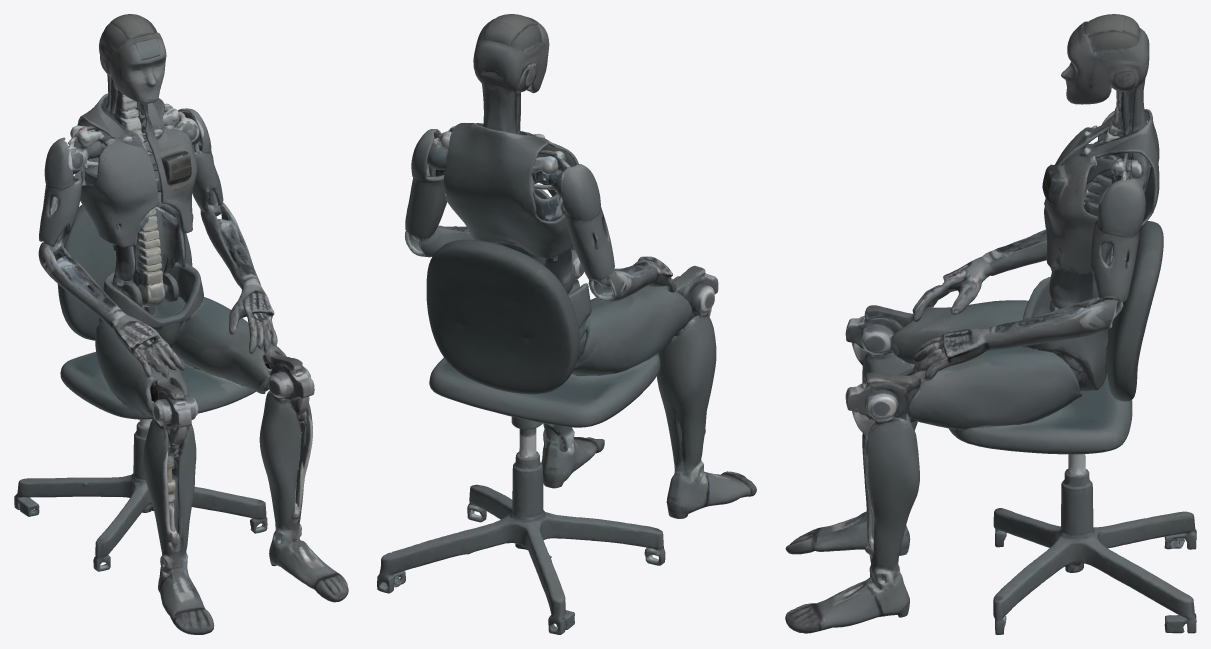
Rendered from kinet_model.glb.
The picture shows the model from 3 angles, left to right: view 1: azimuth 30°, elevation 25°; view 2: azimuth 150°, elevation 25°; view 3: azimuth 270°, elevation 25°; orthographic projection. The views are drawn at different scales.
Parts seen in each view (by area): view 1: tripo_node_c1947d4b-7665-4e80-87d9-1b6402f54ebd; view 2: tripo_node_c1947d4b-7665-4e80-87d9-1b6402f54ebd; view 3: tripo_node_c1947d4b-7665-4e80-87d9-1b6402f54ebd.
Boxes of the visible parts, x1,y1,x2,y2 form: tripo_node_c1947d4b-7665-4e80-87d9-1b6402f54ebd: [14, 14, 348, 634]; tripo_node_c1947d4b-7665-4e80-87d9-1b6402f54ebd: [377, 14, 756, 634]; tripo_node_c1947d4b-7665-4e80-87d9-1b6402f54ebd: [785, 14, 1196, 634].
Bounding box in the file's own units: 0.3918 × 1 × 0.6507.
Materials: 1 (1 with a texture image).
